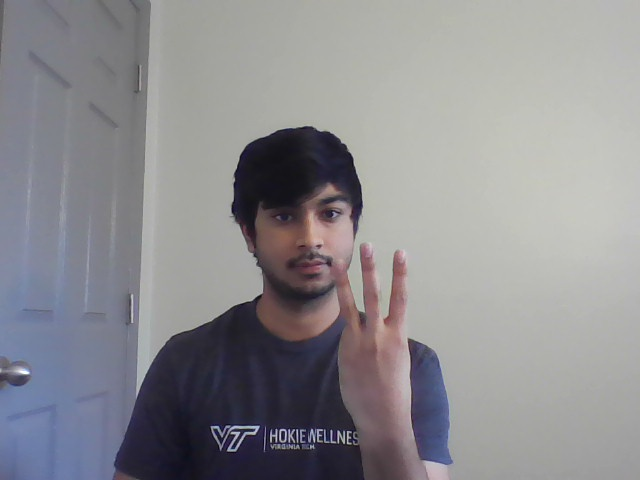three: (327, 238, 421, 411)
